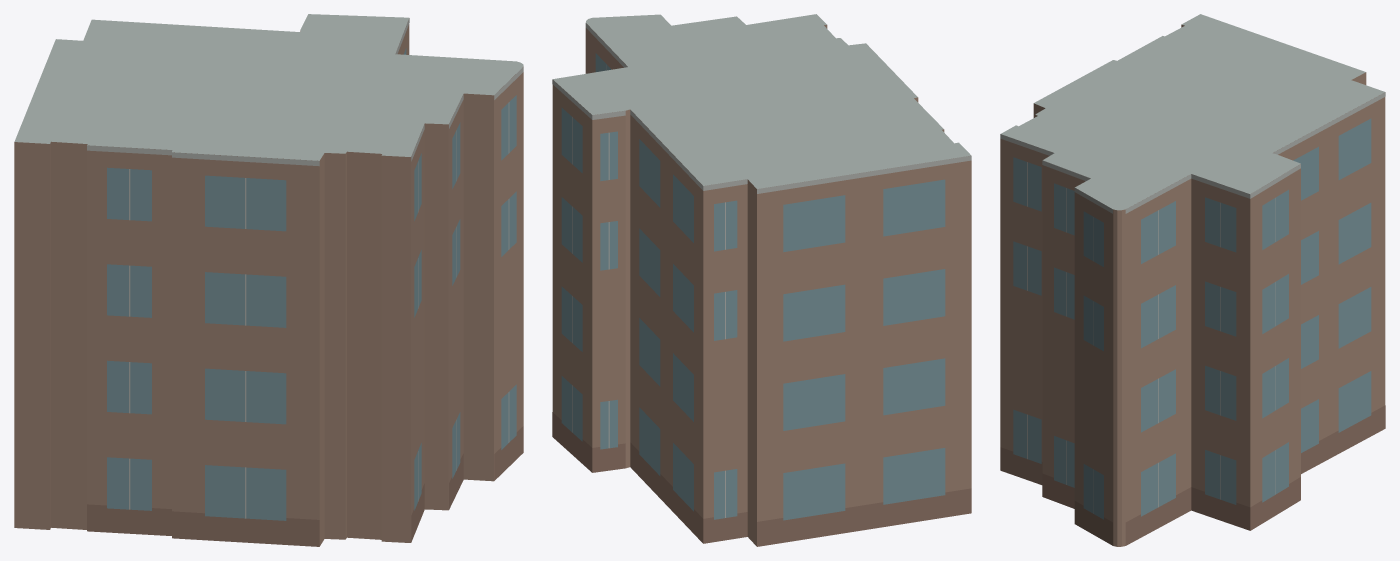
The model's file is survey-upis-32497390.glb.
The picture shows the model from 3 angles, left to right: view 1: azimuth 30°, elevation 25°; view 2: azimuth 150°, elevation 25°; view 3: azimuth 270°, elevation 25°; orthographic projection. The views are drawn at different scales.
Visible parts, largest first — view 1: survey-upis-32497390.tmp; view 2: survey-upis-32497390.tmp; view 3: survey-upis-32497390.tmp.
Boxes of the visible parts, x1,y1,x2,y2 form: survey-upis-32497390.tmp: (14, 14, 523, 546); survey-upis-32497390.tmp: (552, 14, 971, 546); survey-upis-32497390.tmp: (1000, 14, 1385, 546).
Bounding box in the file's own units: 22.14 × 17.7 × 18.36.
